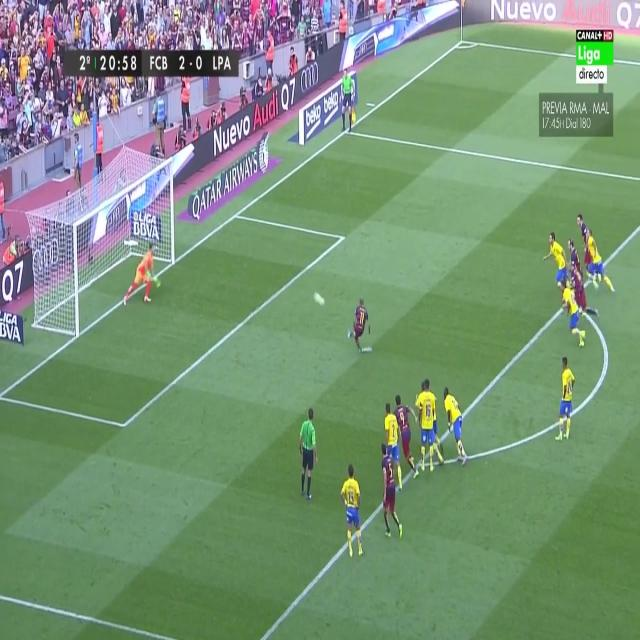Ball: (312, 290, 328, 310)
Goalkeeper: (120, 238, 163, 309)
Player: (392, 393, 422, 480), (340, 464, 366, 561), (379, 442, 404, 540), (442, 386, 470, 469), (415, 377, 437, 477), (557, 278, 589, 346), (584, 228, 616, 296), (554, 354, 577, 443), (568, 262, 601, 321), (345, 295, 373, 356), (542, 231, 569, 293), (383, 402, 398, 455), (567, 233, 579, 270), (576, 212, 586, 236)
Referee: (298, 406, 320, 502), (340, 67, 355, 135)
